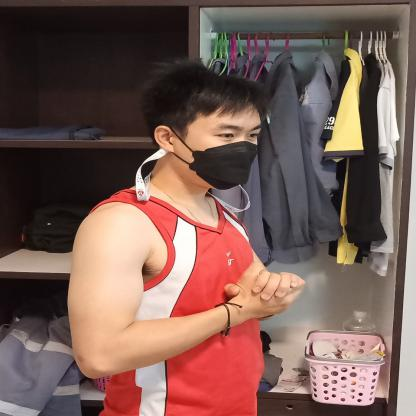Grieve: (183, 251, 316, 346)
